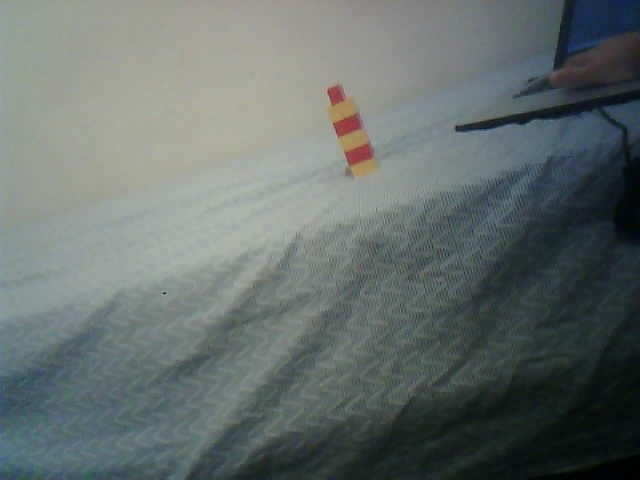lego: (325, 83, 378, 182)
